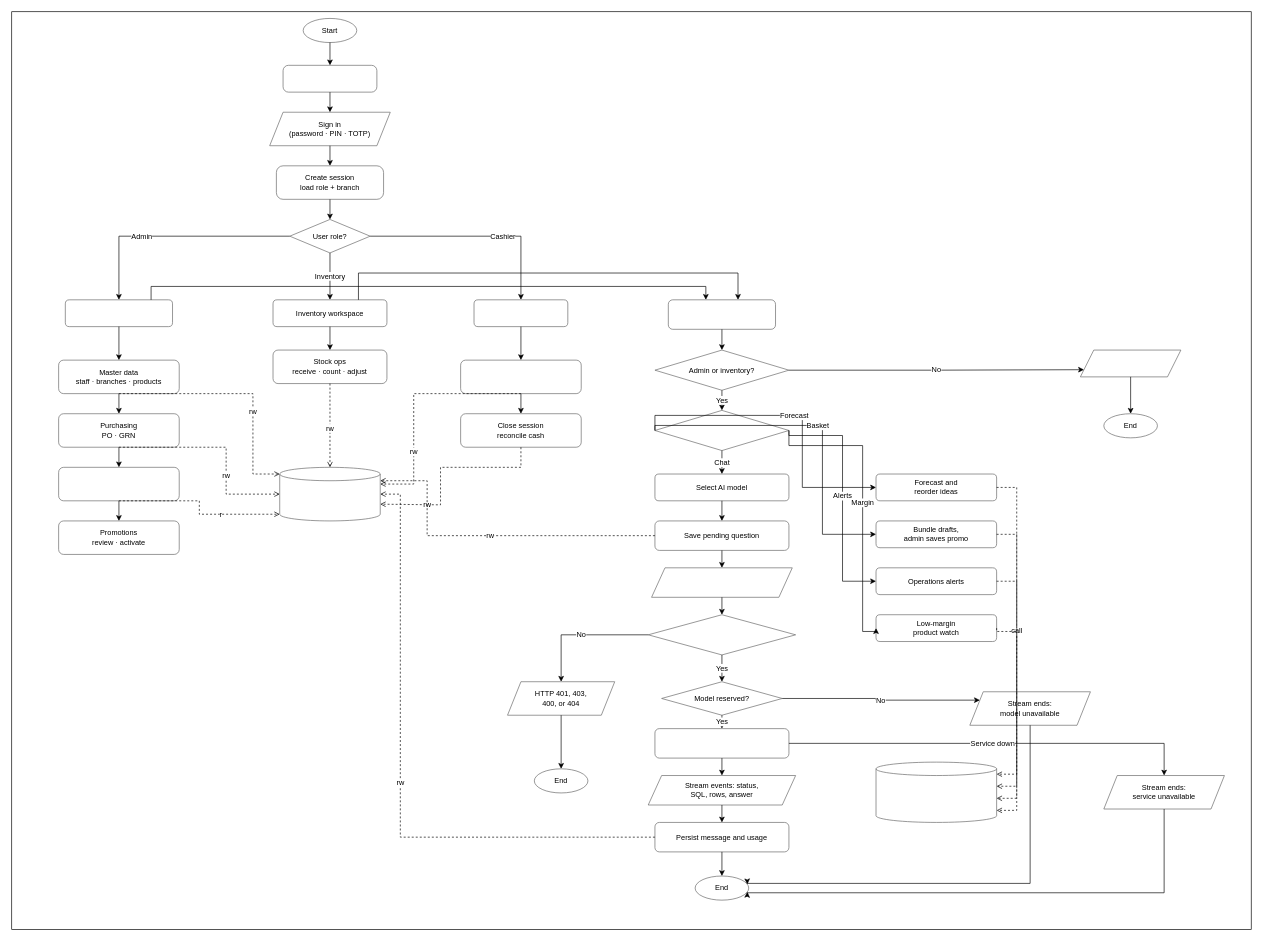
This 1263x941 diagram has some shape labels left out. The shapes that lost their labels are listed below. From the top down, each one's centre as x and y in pixels, then its label:
(x=329, y=78): Authentication
(x=119, y=313): Admin workspace
(x=520, y=313): POS workspace
(x=722, y=314): AI tools
(x=520, y=376): Sell cart · checkout · receipt
(x=1130, y=363): Forbidden
(x=721, y=430): AI feature?
(x=118, y=484): Reports dashboards
(x=329, y=494): PostgreSQL web read/write
(x=721, y=582): Open EventSource stream
(x=722, y=634): Session, IDs, and pending message valid?
(x=721, y=743): Proxy AI service SSE
(x=936, y=791): AI Service
